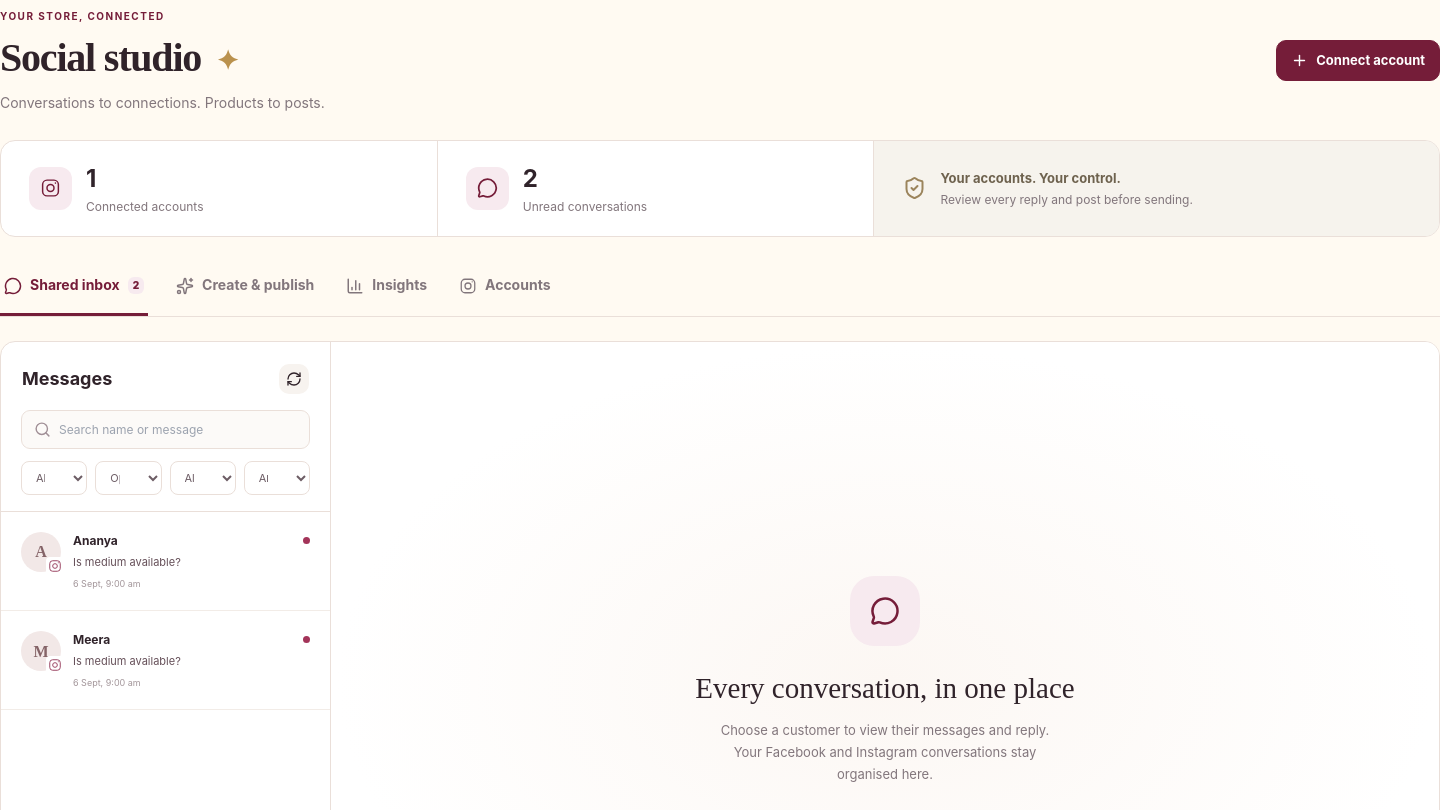
a late reply result cannot replace another customer conversation or its unsent reply
The width and height of the screenshot is (1440, 810).
Click the button "A Ananya Is medium available? 6 Sept, 9:00 am". click: (166, 562)
box: [1,512,330,611]
(page scrolled)
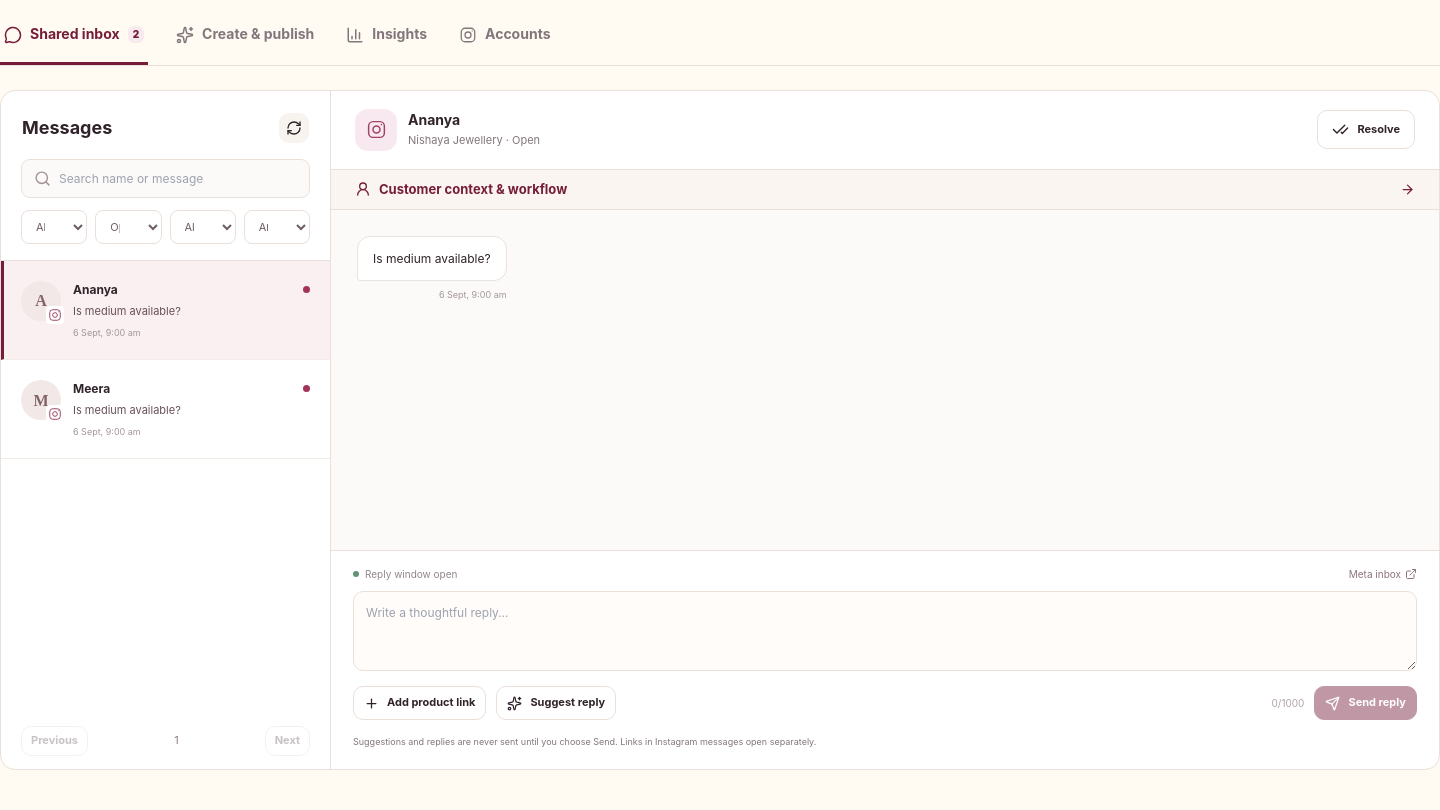
Type "Reply for Ananya" into the text box named "Write your reply". click: (885, 631)
box: [353,591,1417,671]
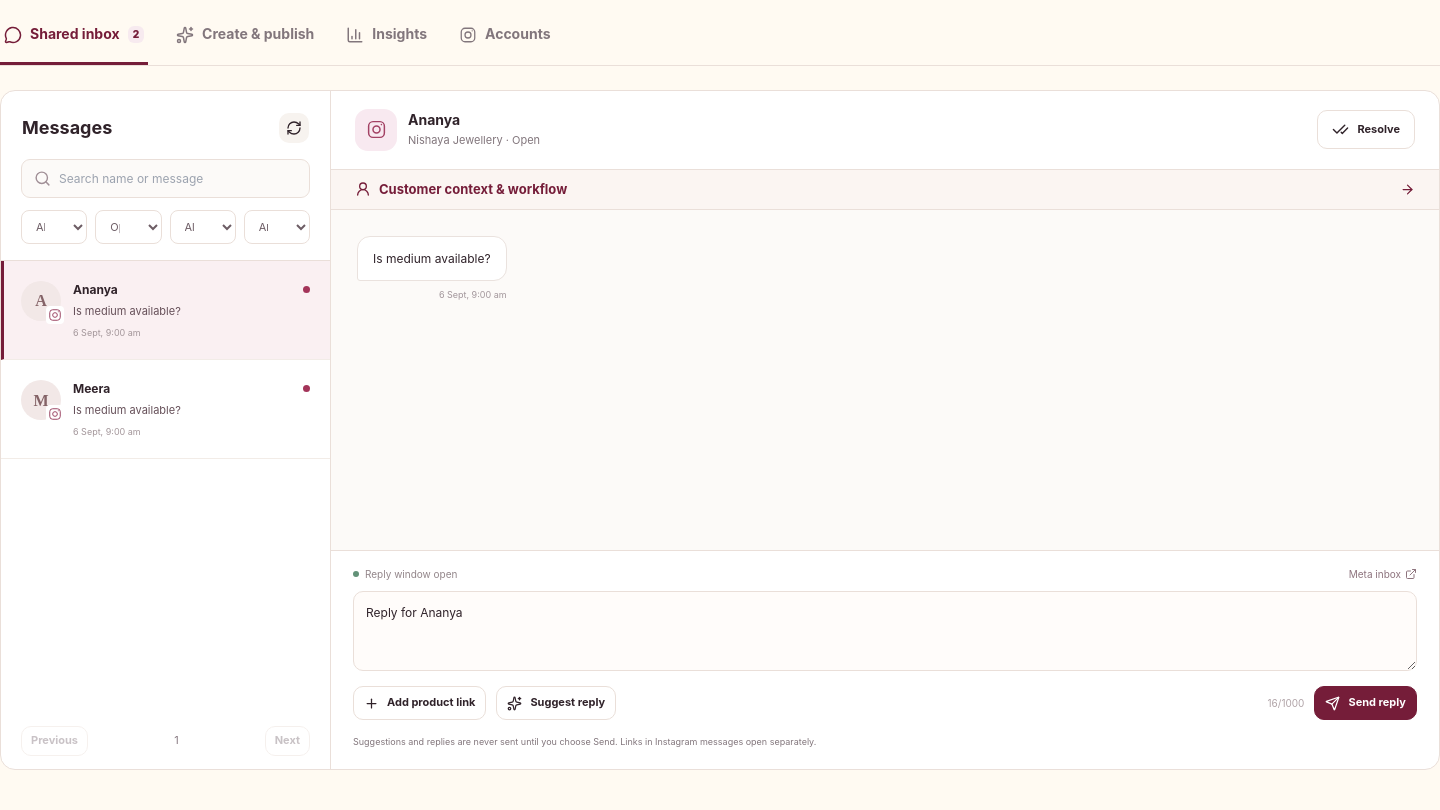
Click the button "Send reply". click: (1366, 703)
box: [1314,686,1417,720]
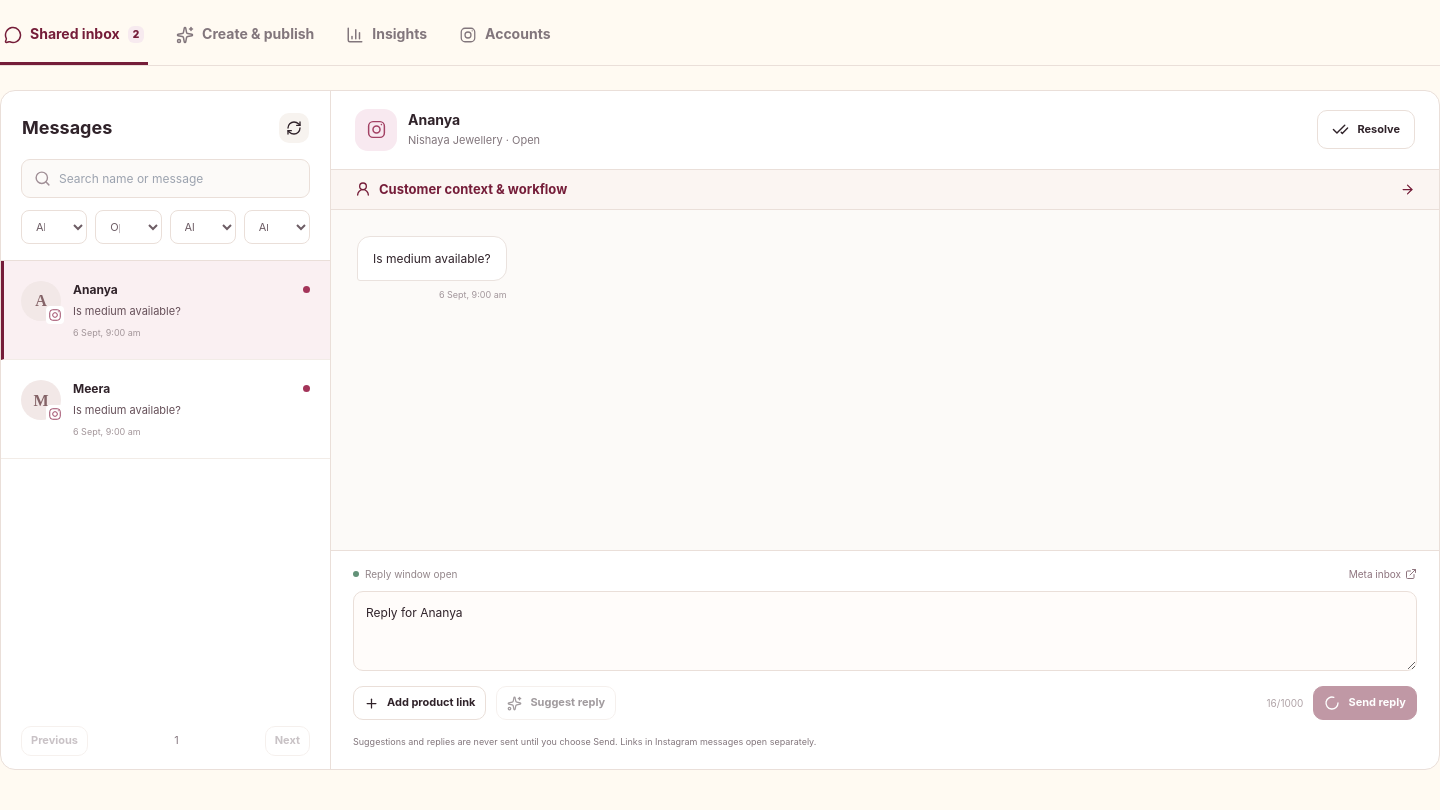
Click the button "M Meera Is medium available? 6 Sept, 9:00 am". click: (166, 410)
box: [1,360,330,459]
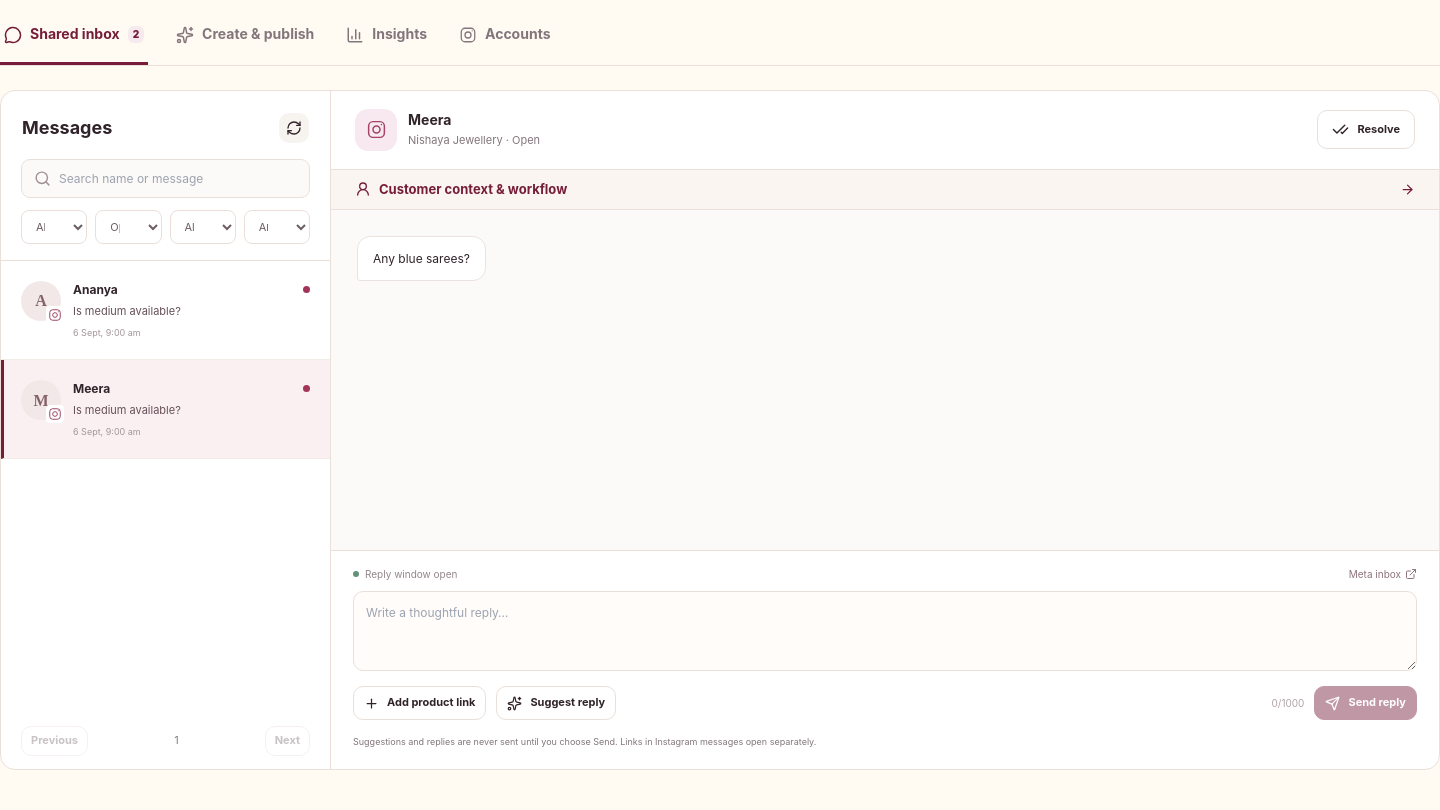
Check: the text "Any blue sarees?" is shown, box [373,248,470,268]
Type "Draft for Meera" into the text box named "Write your reply". click: (885, 631)
box: [353,591,1417,671]
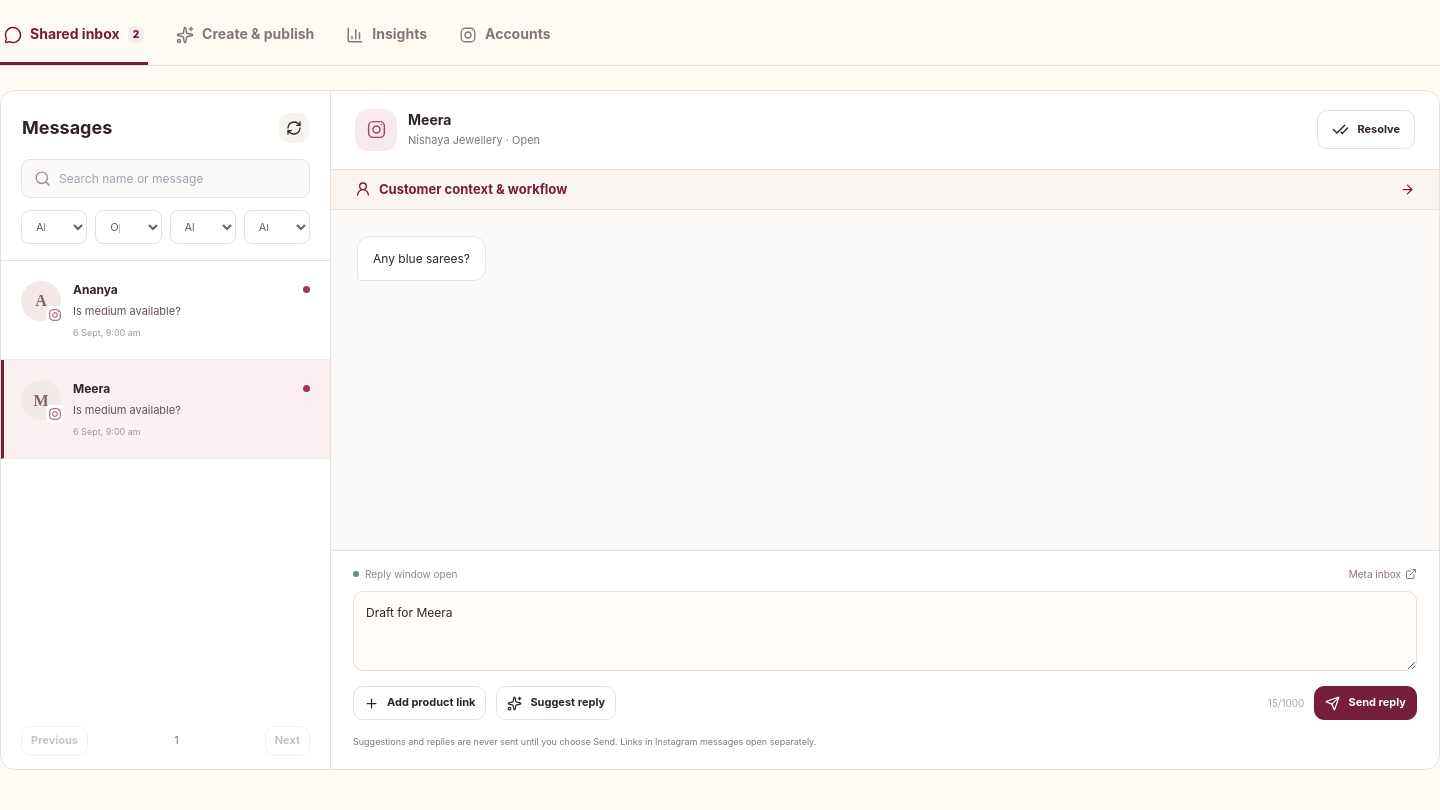
Check: the heading "Meera" is shown, box [408,111,451,128]
Check: the button "Send reply" is enabled, box [1314,686,1417,720]
